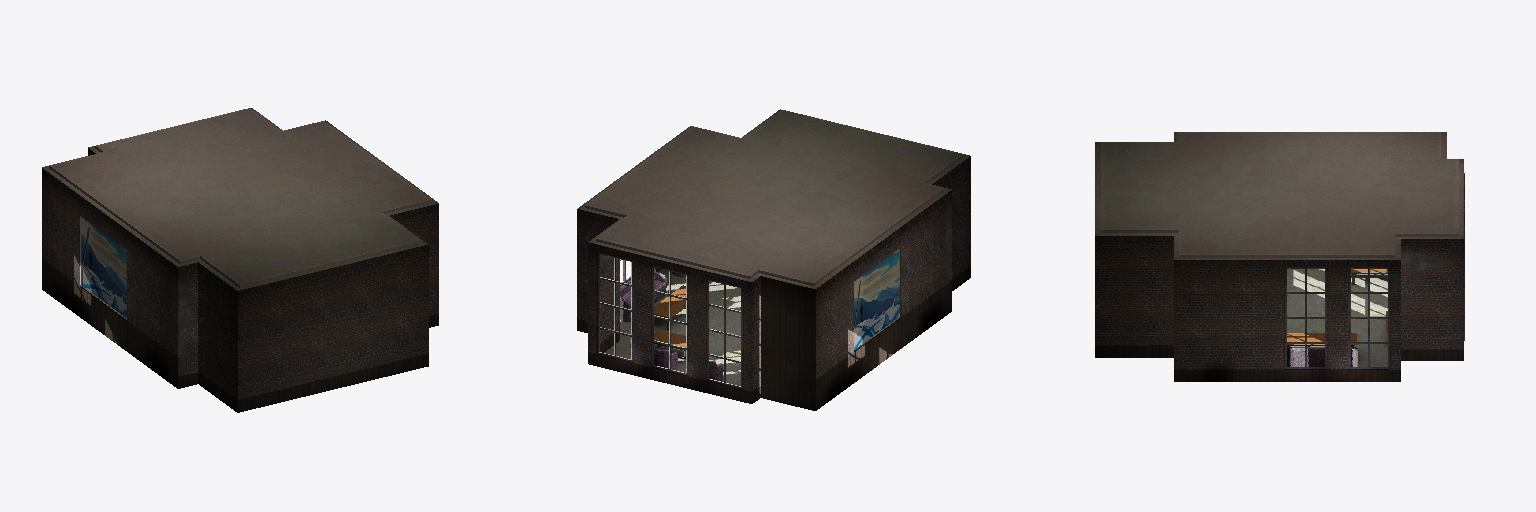
The picture shows the model from 3 angles: view 1: azimuth 30°, elevation 25°; view 2: azimuth 150°, elevation 25°; view 3: azimuth 270°, elevation 25°; orthographic projection.
Parts seen in each view (by area): view 1: group_5_ID41, group_9_ID69, group_8_ID62; view 2: group_9_ID69, group_5_ID41, group_7_ID55, group_3_ID27, group_8_ID62, group_11.003_ID119, group_12.010_ID198; view 3: group_9_ID69, group_5_ID41, group_7_ID55, group_8_ID62, group_3_ID27, group_11.003_ID119, group_12.010_ID198.
Boxes of the visible parts, box(x1,y1,x2,y2) form: group_5_ID41: box(42, 148, 438, 412); group_9_ID69: box(49, 108, 431, 284); group_8_ID62: box(42, 108, 438, 290); group_9_ID69: box(586, 110, 962, 282); group_5_ID41: box(577, 156, 970, 410); group_7_ID55: box(604, 269, 740, 385); group_3_ID27: box(597, 251, 742, 388); group_8_ID62: box(578, 109, 969, 288); group_11.003_ID119: box(620, 268, 723, 381); group_12.010_ID198: box(654, 285, 685, 361); group_9_ID69: box(1101, 132, 1458, 254); group_5_ID41: box(1095, 236, 1463, 381); group_7_ID55: box(1287, 269, 1387, 366); group_8_ID62: box(1095, 132, 1463, 259); group_3_ID27: box(1285, 173, 1464, 368); group_11.003_ID119: box(1287, 347, 1357, 366); group_12.010_ID198: box(1287, 269, 1387, 346).
Bounding box in the file's own units: 8.68 × 3.95 × 10.61.
Materials: 1 (1 with a texture image).